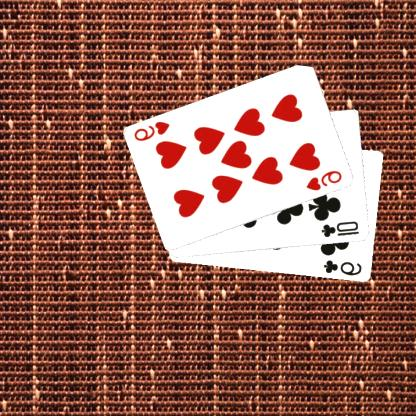10C: (320, 219, 362, 239)
6C: (323, 258, 365, 278)
9H: (133, 118, 173, 143), (306, 168, 345, 192)
